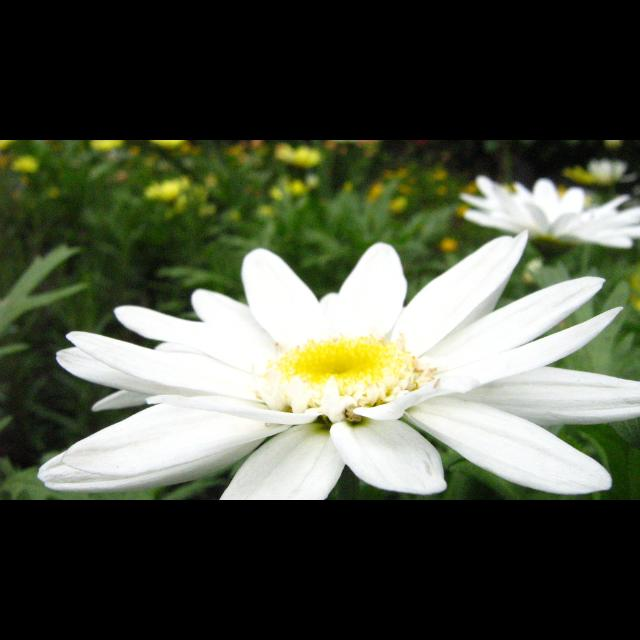Flower: (0, 200, 640, 500), (467, 174, 638, 244), (573, 156, 631, 182), (276, 145, 320, 167), (146, 179, 187, 199), (276, 179, 302, 199), (14, 154, 36, 172), (90, 140, 120, 152), (153, 140, 180, 148)
